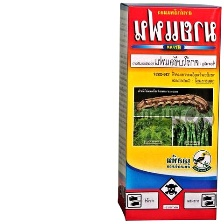carton: (114, 0, 223, 222)
